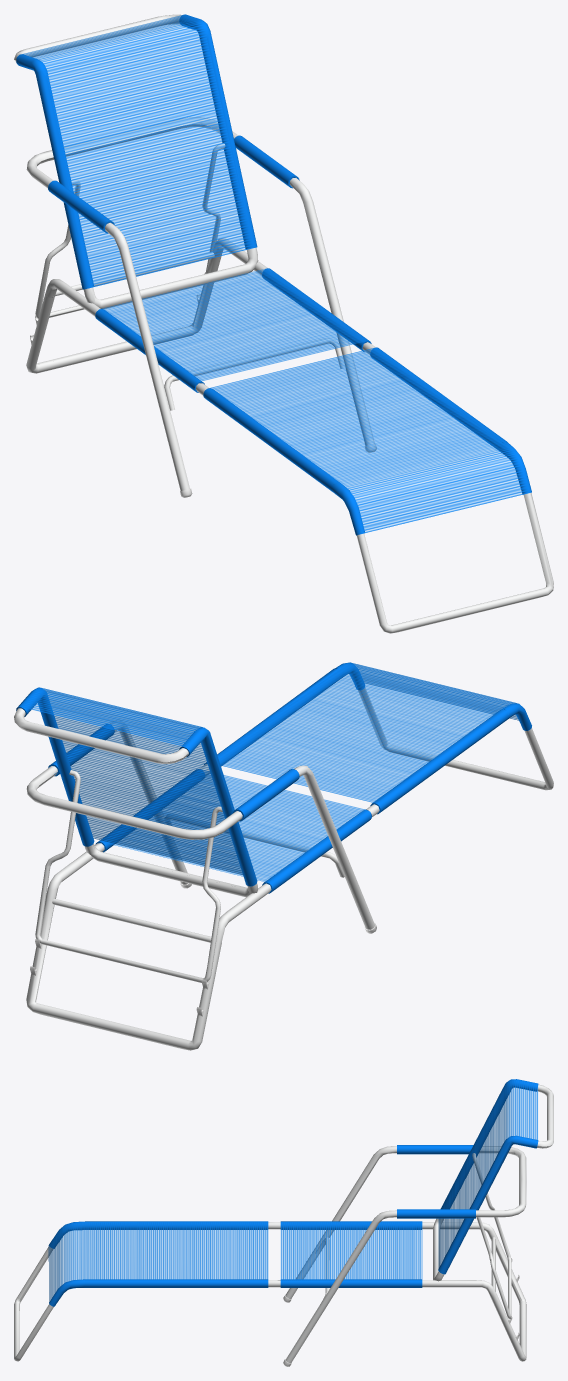
The model's file is chair-28.glb.
3 renders of one model, top to bottom at view 1: azimuth 30°, elevation 25°; view 2: azimuth 150°, elevation 25°; view 3: azimuth 270°, elevation 25°, orthographic. The views are drawn at different scales.
Visible parts, largest first — view 1: poolChair_Blue, poolChairRest.002, poolChairSupport.002; view 2: poolChair_Blue, poolChairRest.002, poolChairSupport.002; view 3: poolChair_Blue, poolChairRest.002, poolChairSupport.002.
Part boxes in pixels (x1=…): poolChair_Blue: x1=26, y1=117, x2=553, y2=633; poolChairRest.002: x1=14, y1=14, x2=258, y2=309; poolChairSupport.002: x1=35, y1=143, x2=225, y2=318; poolChair_Blue: x1=26, y1=662, x2=553, y2=1050; poolChairRest.002: x1=14, y1=687, x2=257, y2=897; poolChairSupport.002: x1=35, y1=770, x2=222, y2=982; poolChair_Blue: x1=14, y1=1145, x2=526, y2=1366; poolChairRest.002: x1=433, y1=1079, x2=553, y2=1281; poolChairSupport.002: x1=472, y1=1153, x2=511, y2=1318.
Bounding box in the file's own units: 5 × 7.75 × 16.74.
1 material, 1 textured.
